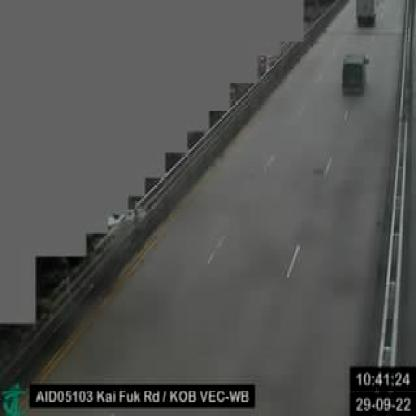Car: (341, 52, 365, 94)
